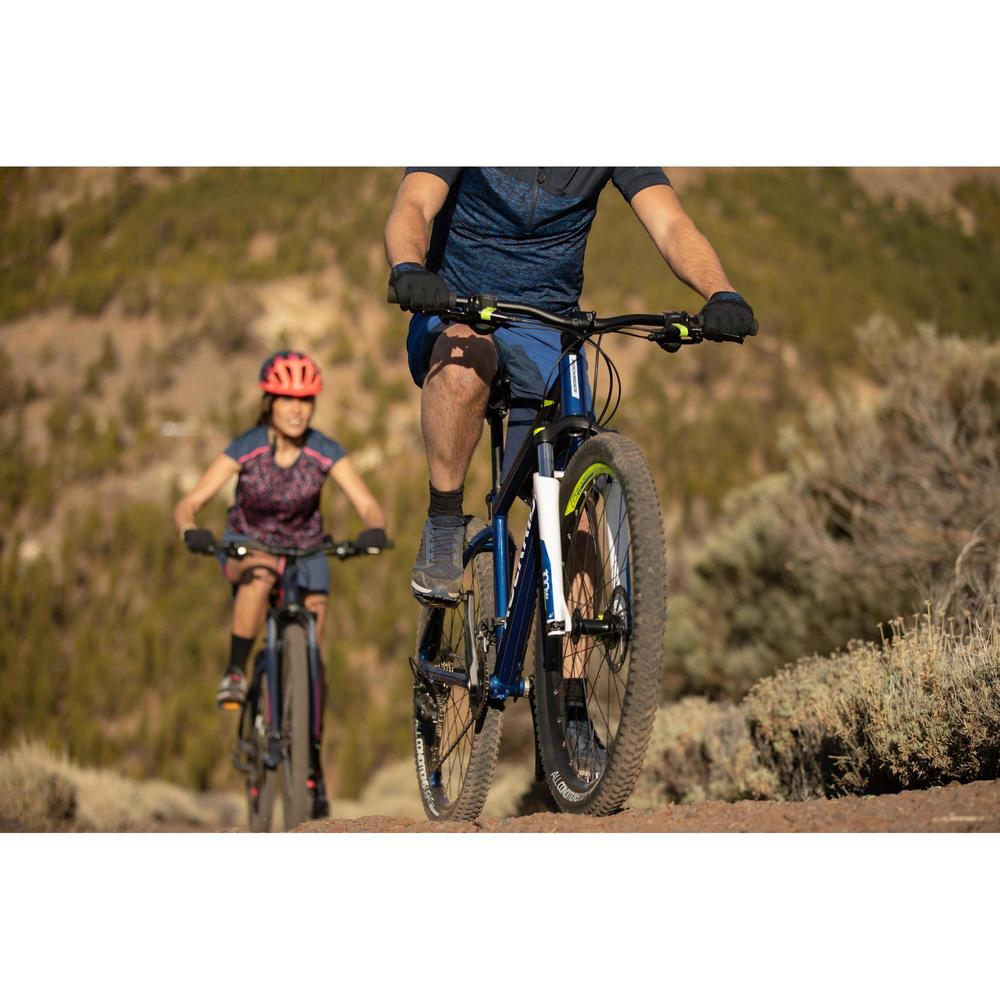MountainBike: (385, 243, 743, 836), (186, 511, 395, 832)
